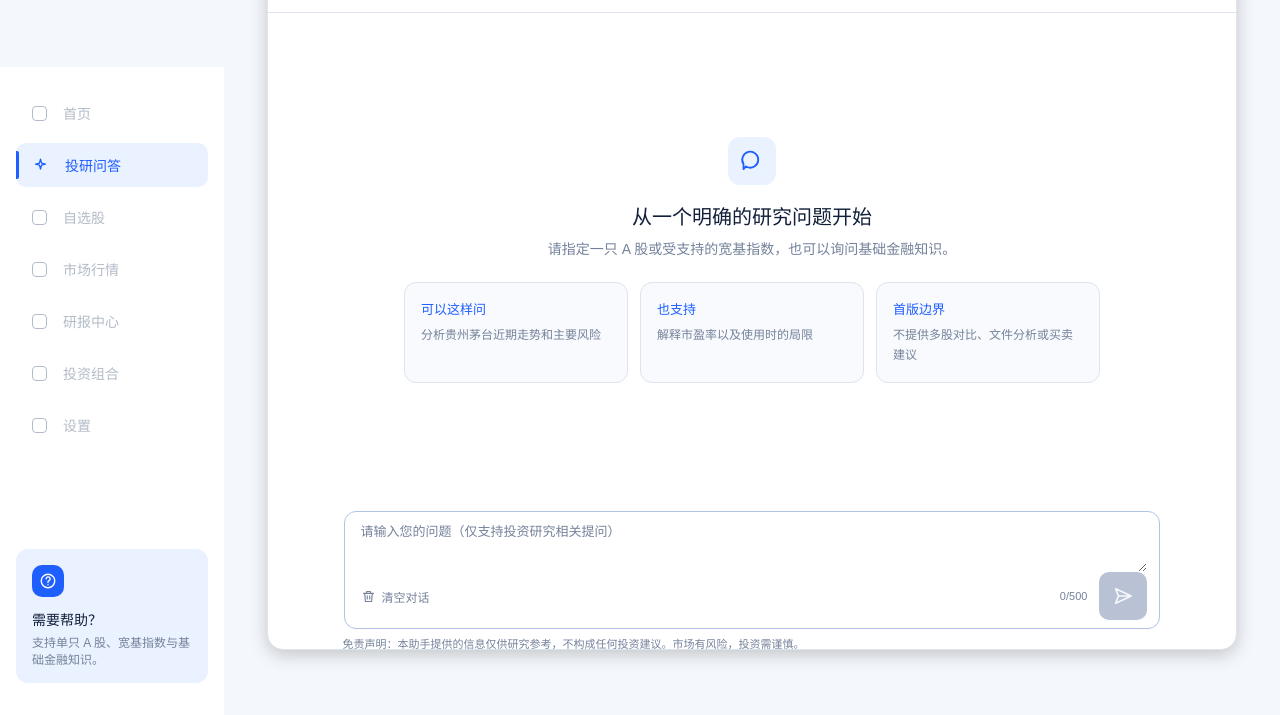
research workspace › renders a knowledge answer without empty research-only sections
The width and height of the screenshot is (1280, 715).
(page scrolled)
Type "什么是市盈率？" into the text box named "请输入投资研究问题". click: (754,547)
box: [361,522,1147,572]
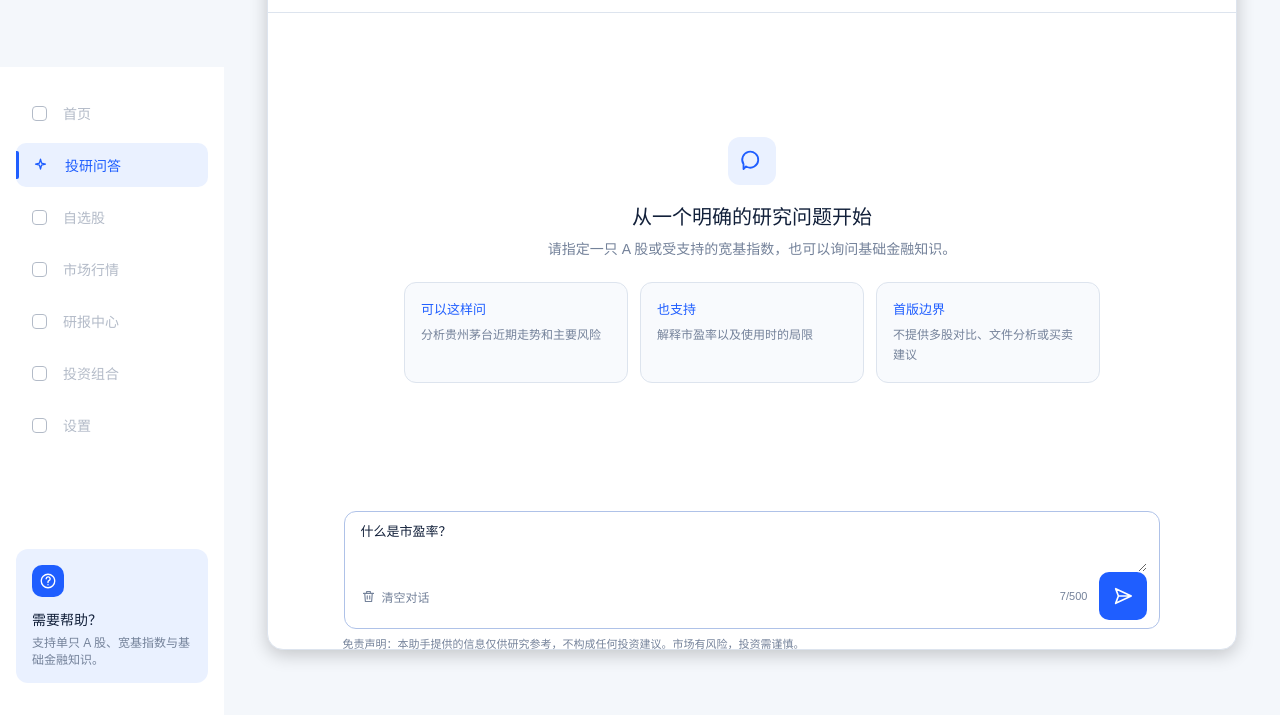
Click the button named "发送问题". click: (1123,596)
box: [1099,572,1147,620]
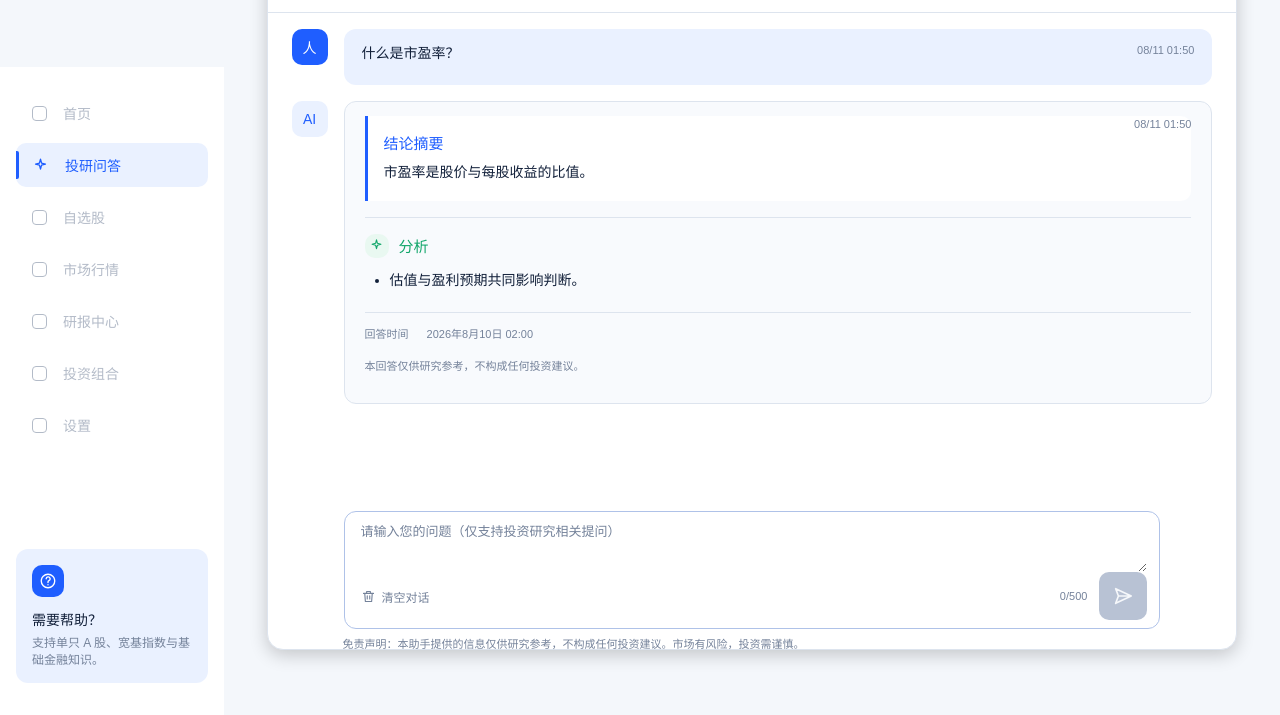
expect the text "市盈率是股价与每股收益的比值。" is shown: met, box [384,164,594,180]
